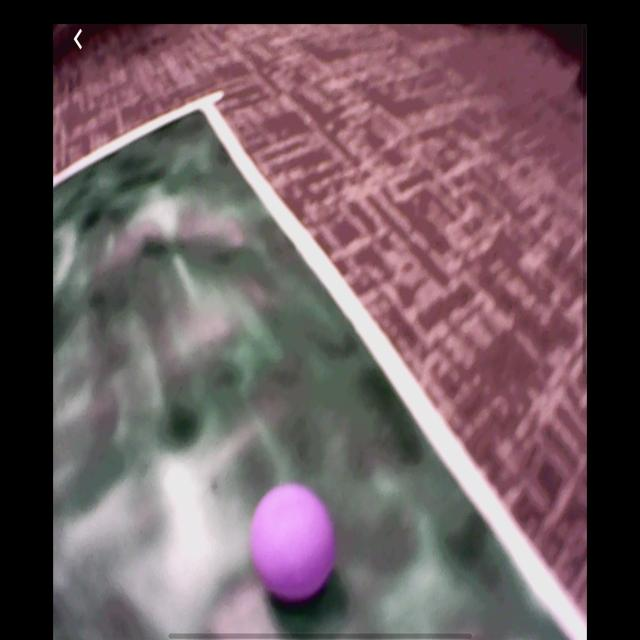ball: (253, 486, 334, 608)
